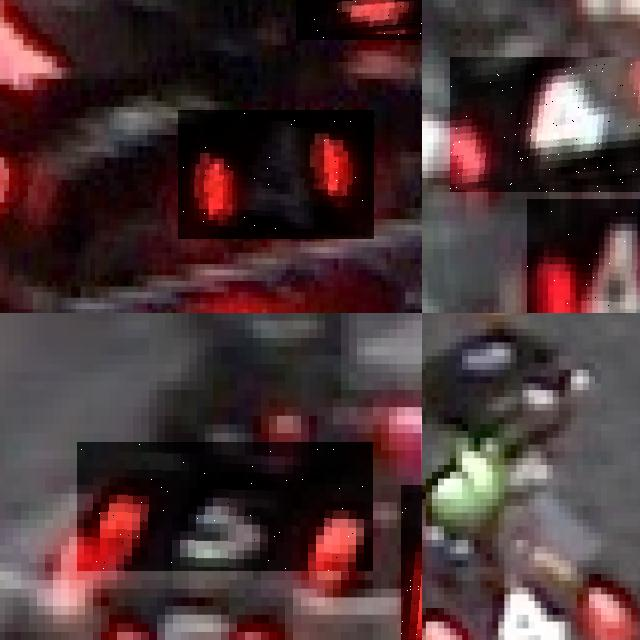R4: (450, 57, 640, 192), (178, 110, 374, 239), (527, 199, 640, 313), (295, 0, 422, 39)
R5: (77, 442, 373, 571), (69, 580, 293, 640)
